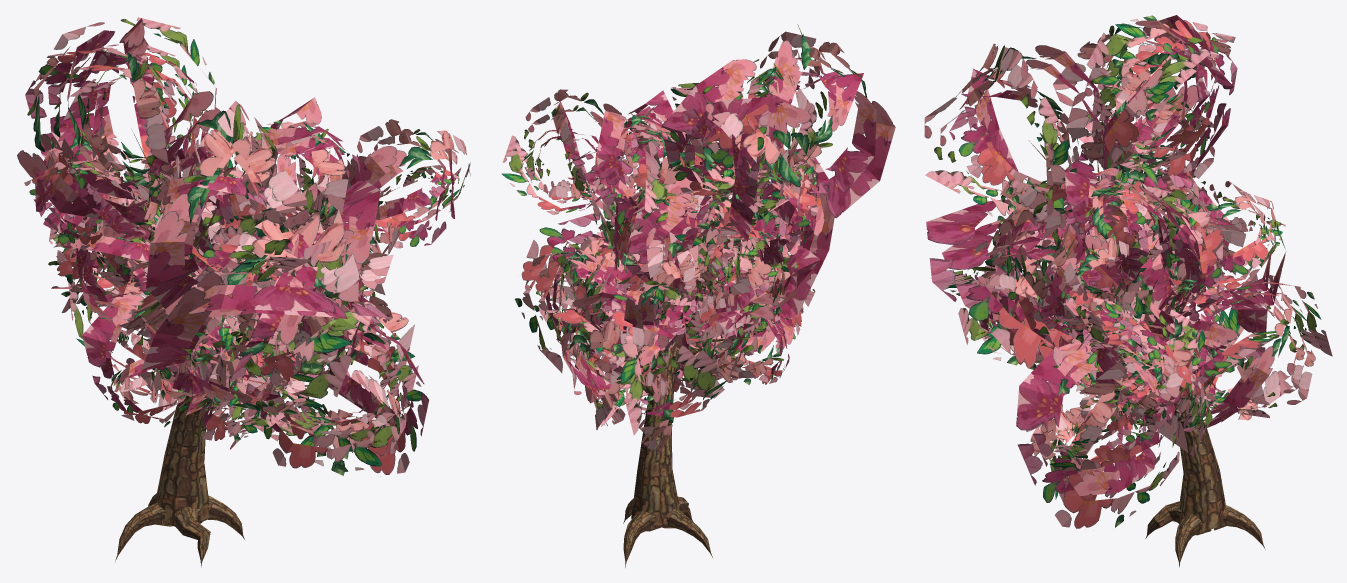
The model's file is tree_02.fbx.
3 renders of one model, left to right at view 1: azimuth 30°, elevation 25°; view 2: azimuth 150°, elevation 25°; view 3: azimuth 270°, elevation 25°, orthographic. The views are drawn at different scales.
Parts seen in each view (by area): view 1: SM_Tree_001_2; view 2: SM_Tree_001_2; view 3: SM_Tree_001_2.
Boxes of the visible parts, <box> form: SM_Tree_001_2: <box>17,17,470,567</box>; SM_Tree_001_2: <box>502,24,895,567</box>; SM_Tree_001_2: <box>924,15,1332,567</box>.
Size of the model in its own units: 1120 by 1487 by 1098.
3 materials, 3 textured.
